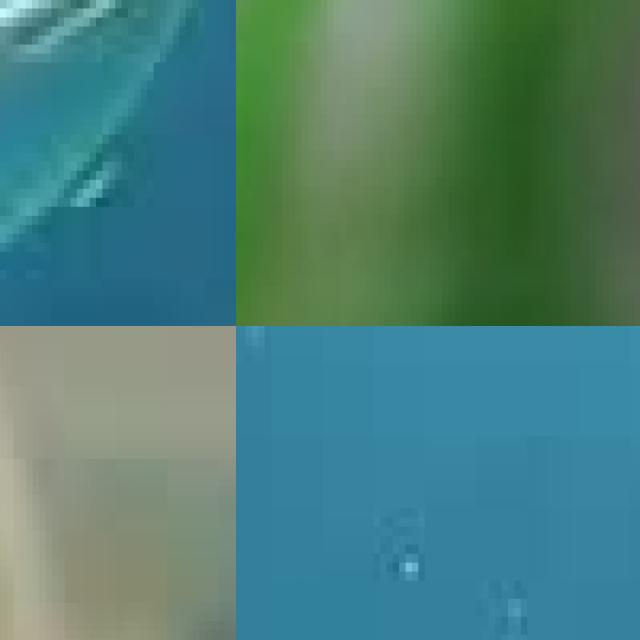fish: (0, 0, 236, 326), (0, 326, 236, 640)
